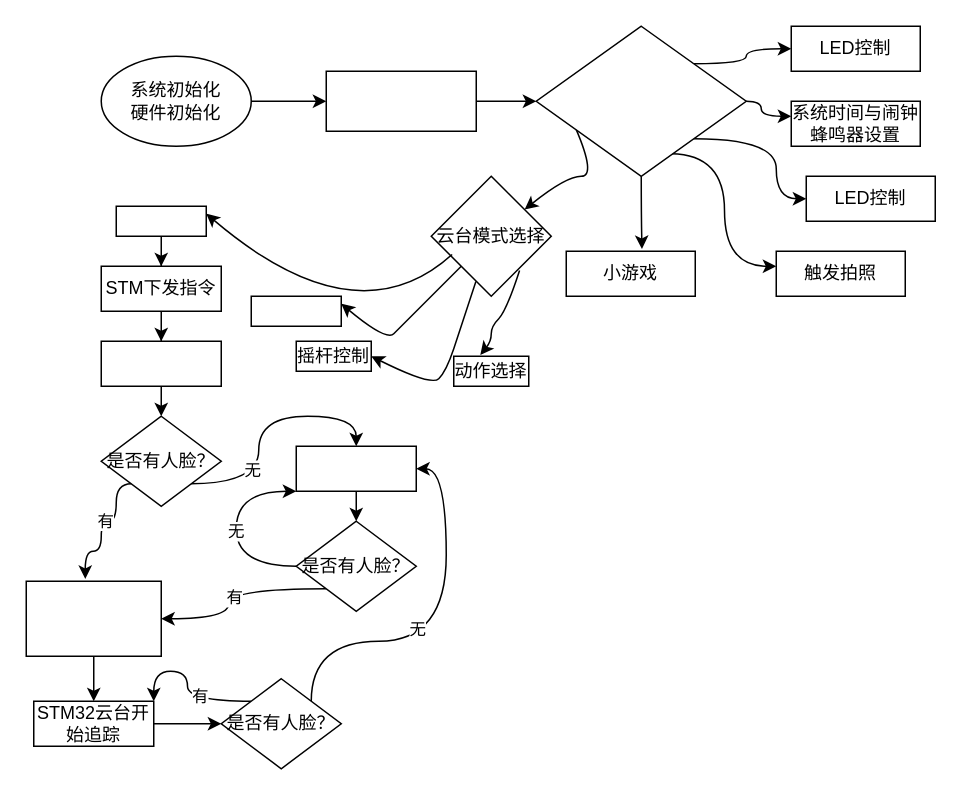
Some shapes in this 962 by 795 pixel diagram are drawn without their labels. The shapes that lost their labels are listed below. From the top down, each one's box as (x1, y1, x2, y2) in pixels, then its label:
(325, 70, 476, 131): 裸机调度器初始化
(535, 25, 746, 176): 用户遥控选择菜单
(115, 205, 206, 236): 自动控制
(250, 295, 341, 326): 遥控控制
(100, 340, 221, 386): ESP开始姿态解算
(295, 445, 416, 491): STM32云台开始巡逻
(25, 580, 161, 656): 拍照并触发蜂鸣器、LED报警
